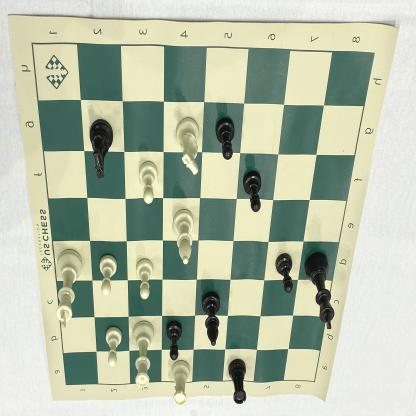black-bishop: (198, 290, 223, 350)
black-king: (303, 248, 337, 332)
black-pawn: (241, 166, 264, 217), (214, 115, 237, 163), (275, 248, 295, 295), (164, 319, 185, 363)
black-rook: (226, 355, 250, 409)
white-bishop: (170, 205, 196, 270)
white-king: (52, 247, 84, 334)
white-knight: (87, 115, 116, 182), (174, 115, 203, 180)
white-pawn: (137, 158, 160, 210), (96, 251, 121, 297), (134, 254, 156, 302), (103, 323, 124, 369)
white-queen: (132, 317, 156, 391)
white-rook: (169, 357, 192, 410)
